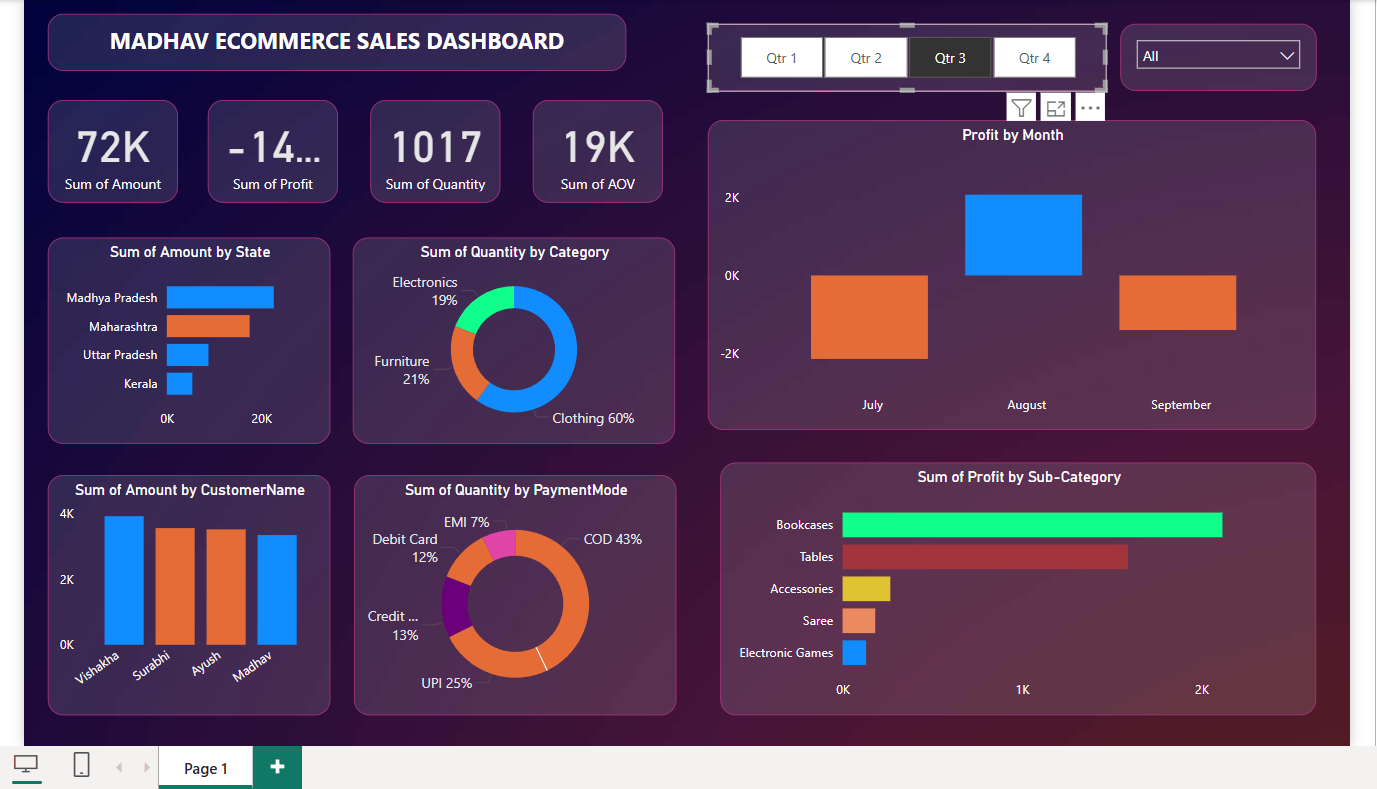

This screenshot's page, from the dashboard's own definition file:
{"tool":"powerbi","page":{"name":"Page 1","canvas":[1280,720],"ordinal":0},"visuals":[{"type":"textbox","box":[22.9,13.3,558.6,55.5],"z":0},{"type":"columnChart","title":"Profit by Month","fields":{"Category":["Orders.Order Date.Variation.Date Hierarchy.Month"],"Y":["Details.Profit"]},"box":[659.9,115.8,587.5,299.2],"z":1000},{"type":"barChart","fields":{"Category":["Details.Sub-Category"],"Y":["Details.Profit"]},"box":[672,446.4,575.5,243.7],"z":2000},{"type":"donutChart","fields":{"Category":["Details.Category"],"Y":["Details.Quantity"]},"box":[317,229.2,311.5,199],"z":3000},{"type":"donutChart","fields":{"Y":["Details.Quantity"],"Category":["Details.PaymentMode"]},"box":[318.4,458.3,311.5,231.9],"z":4000},{"type":"card","fields":{"Values":["Details.Amount"]},"box":[22.9,96.5,125.5,98.9],"z":5000},{"type":"card","fields":{"Values":["Details.Quantity"]},"box":[334.2,96.5,125.5,98.9],"z":6000},{"type":"card","fields":{"Values":["Details.Profit"]},"box":[177.3,96.5,125.5,98.9],"z":7000},{"type":"card","fields":{"Values":["Details.AOV"]},"box":[491,96.5,125.5,98.9],"z":8000},{"type":"barChart","fields":{"Category":["Orders.State"],"Y":["Details.Amount"]},"box":[23.3,229.2,273.1,199],"z":9000},{"type":"columnChart","fields":{"Category":["Orders.CustomerName"],"Y":["Details.Amount"]},"box":[23,458,273,232],"z":10000},{"type":"slicer","fields":{"Values":["Orders.Order Date.Variation.Date Hierarchy.Quarter"]},"box":[659.9,22.9,384.9,65.1],"z":10001},{"type":"slicer","fields":{"Values":["Orders.State"]},"box":[1058,22.9,189.4,65.1],"z":10002}]}

Visuals, with their boxes on the page's 1280x720 design canvas (x1, y1, x2, y2). These are canvas units, not pixel positions in the 1377x789 screenshot, which may show the page scaled, cropped or inside an application window:
textbox: box=[23, 13, 582, 69]
"Profit by Month" columnChart: box=[660, 116, 1247, 415]
barChart - Details.Sub-Category x Details.Profit: box=[672, 446, 1248, 690]
donutChart - Details.Category x Details.Quantity: box=[317, 229, 628, 428]
donutChart - Details.Quantity x Details.PaymentMode: box=[318, 458, 630, 690]
card - Details.Amount: box=[23, 96, 148, 195]
card - Details.Quantity: box=[334, 96, 460, 195]
card - Details.Profit: box=[177, 96, 303, 195]
card - Details.AOV: box=[491, 96, 616, 195]
barChart - Orders.State x Details.Amount: box=[23, 229, 296, 428]
columnChart - Orders.CustomerName x Details.Amount: box=[23, 458, 296, 690]
slicer - Orders.Order Date.Variation.Date Hierarchy.Quarter: box=[660, 23, 1045, 88]
slicer - Orders.State: box=[1058, 23, 1247, 88]
